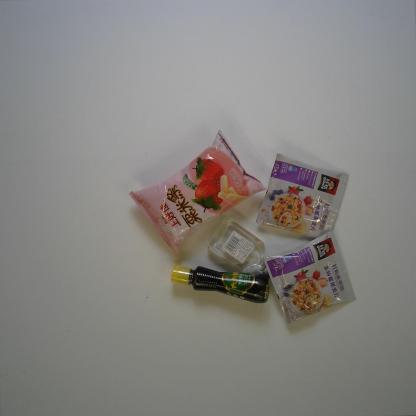Alcohol: (207, 217, 271, 278)
Instant Drink: (262, 230, 357, 325), (254, 153, 349, 239)
Puffed Food: (127, 129, 268, 258)
Seasoner: (170, 264, 271, 304)
